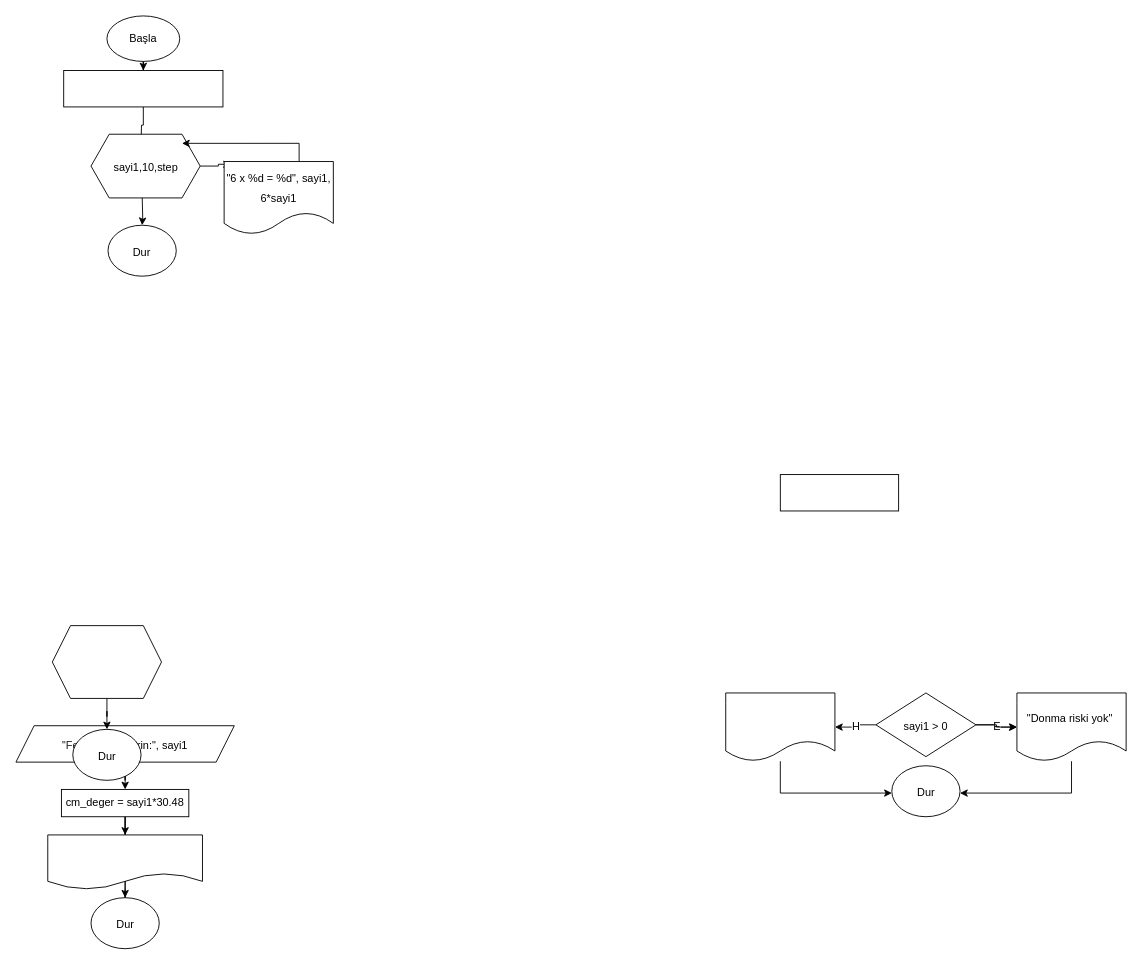
Some shapes in this 1142 by 965 pixel diagram are drawn without their labels. Here are the shapes that lost their labels. From the top down, the centre of each, then its label:
point (143, 88): int sayi1=1
point (839, 492): int sayi1, cm_deger
point (106, 661): sayi1,10,1
point (780, 726): " Donma riski var"
point (124, 862): "Girdiğiniz sayının cm cinsinden değeri: ", cm_deger
